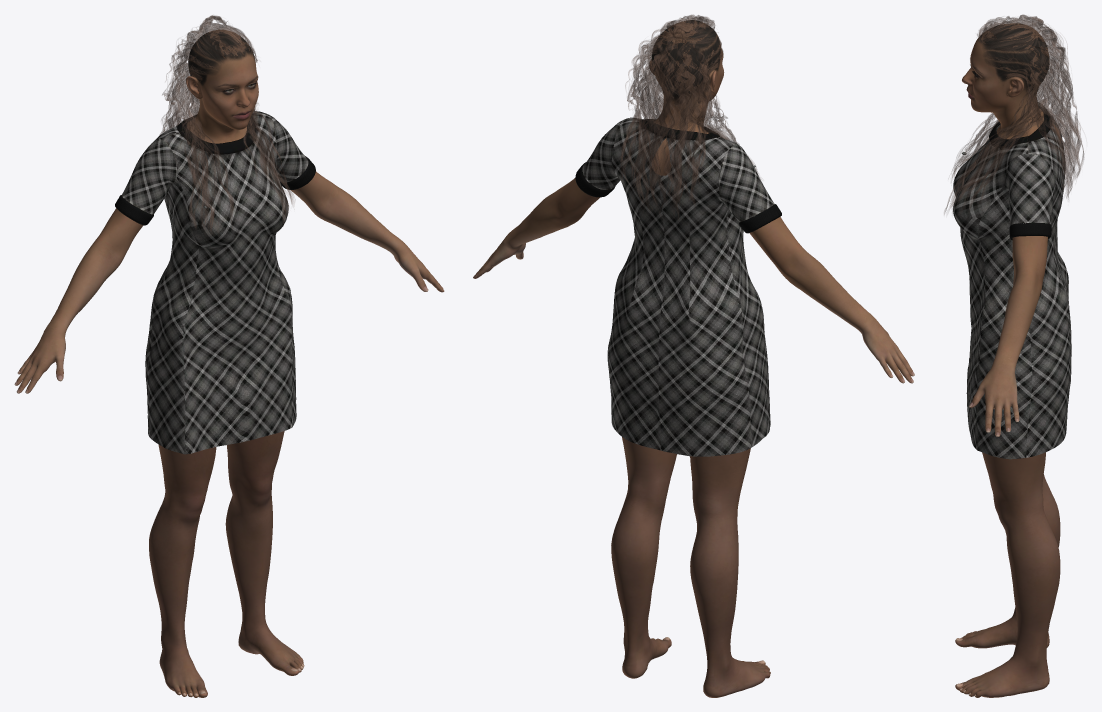
Rendered from female-tan-dress.glb.
3 renders of one model, left to right at view 1: azimuth 30°, elevation 25°; view 2: azimuth 150°, elevation 25°; view 3: azimuth 270°, elevation 25°, orthographic. The views are drawn at different scales.
Visible parts, largest first — view 1: Clothing Marcy Dress, Body, Hair Eirgrid Hair Genesis 9; view 2: Clothing Marcy Dress, Body, Hair Eirgrid Hair Genesis 9; view 3: Clothing Marcy Dress, Body, Hair Eirgrid Hair Genesis 9.
Boxes of the visible parts, x1=… form: Clothing Marcy Dress: x1=115, y1=111, x2=315, y2=454; Body: x1=14, y1=30, x2=444, y2=697; Hair Eirgrid Hair Genesis 9: x1=160, y1=15, x2=295, y2=236; Clothing Marcy Dress: x1=575, y1=117, x2=781, y2=456; Body: x1=473, y1=21, x2=914, y2=697; Hair Eirgrid Hair Genesis 9: x1=619, y1=14, x2=760, y2=219; Clothing Marcy Dress: x1=953, y1=102, x2=1071, y2=459; Body: x1=955, y1=23, x2=1060, y2=697; Hair Eirgrid Hair Genesis 9: x1=944, y1=14, x2=1084, y2=215.
Bounding box in the file's own units: 1.2 × 1.73 × 0.3465.
Materials: 23 (23 with a texture image).
